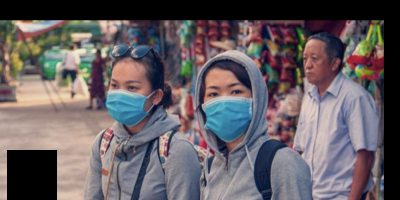with_mask: (200, 81, 251, 144), (104, 77, 151, 128)
without_mask: (303, 51, 328, 82)
